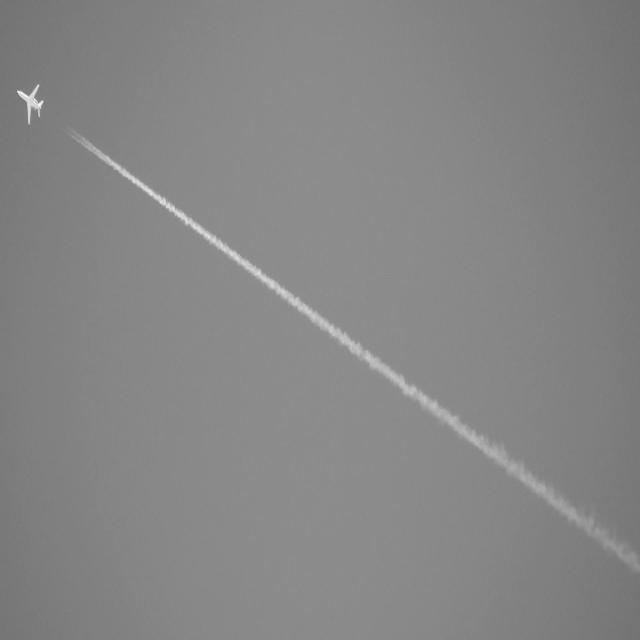aeroplane: (16, 80, 46, 123)
